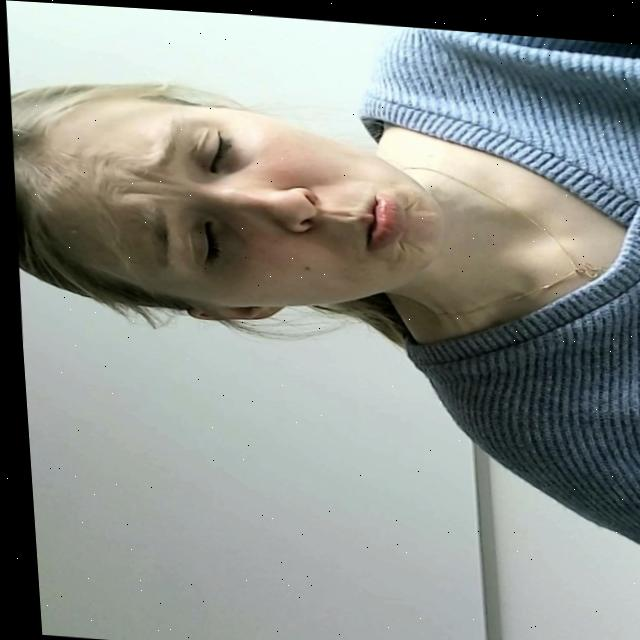sad: (43, 95, 441, 326)
